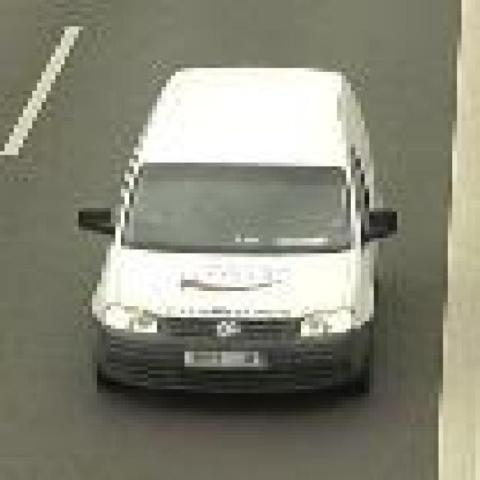van: (90, 68, 376, 398)
